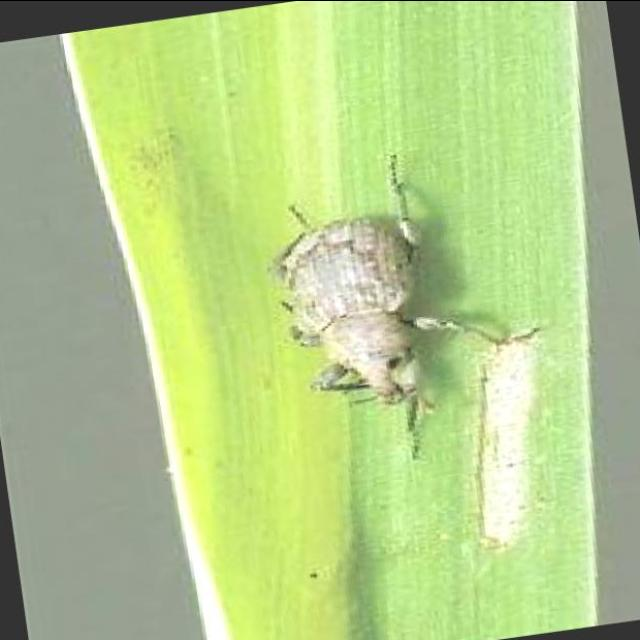ricebug: (268, 154, 474, 429)
